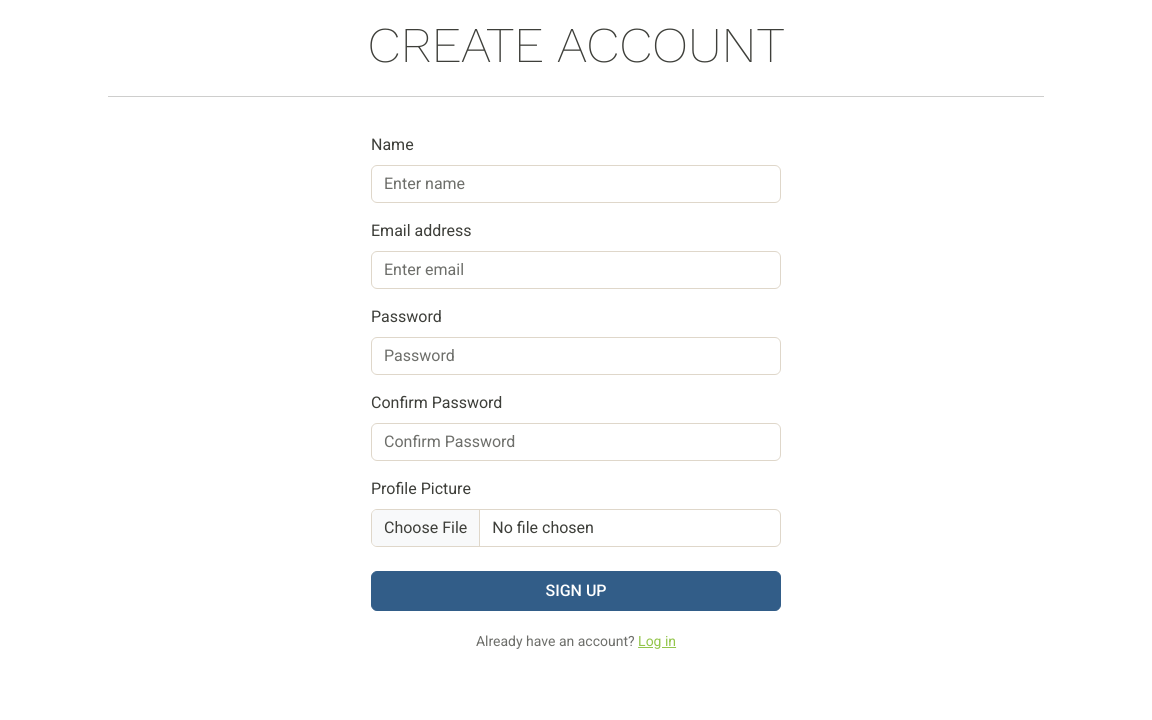
Test case: RegisterPage › validates form inputs
What coordinates should you click on to do the following:
click the button with test id "reg-btn"
I would click on:
 (576, 591)
Its box is [371,571,781,611].
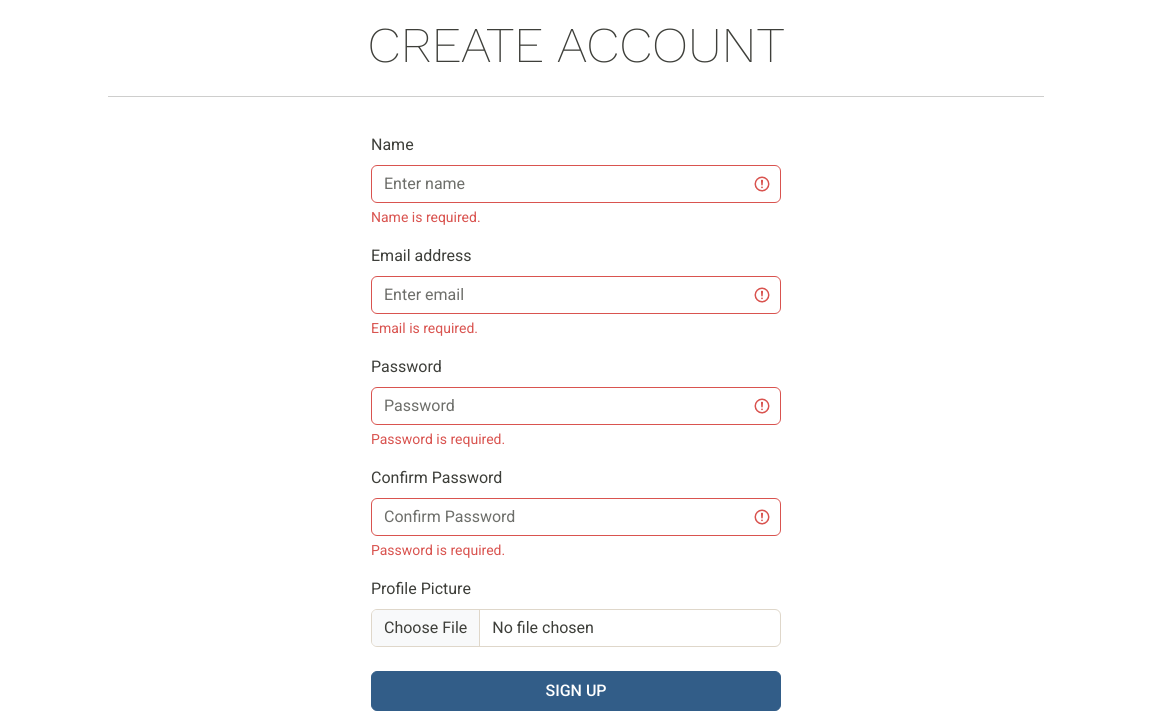
Expected: the text "Name is required." is shown, [371,209,481,225]
Expected: the text "Email is required." is shown, [371,320,478,336]
Expected: the text "Password is required." is shown 2 times, [371,431,505,447]; [371,542,505,558]
